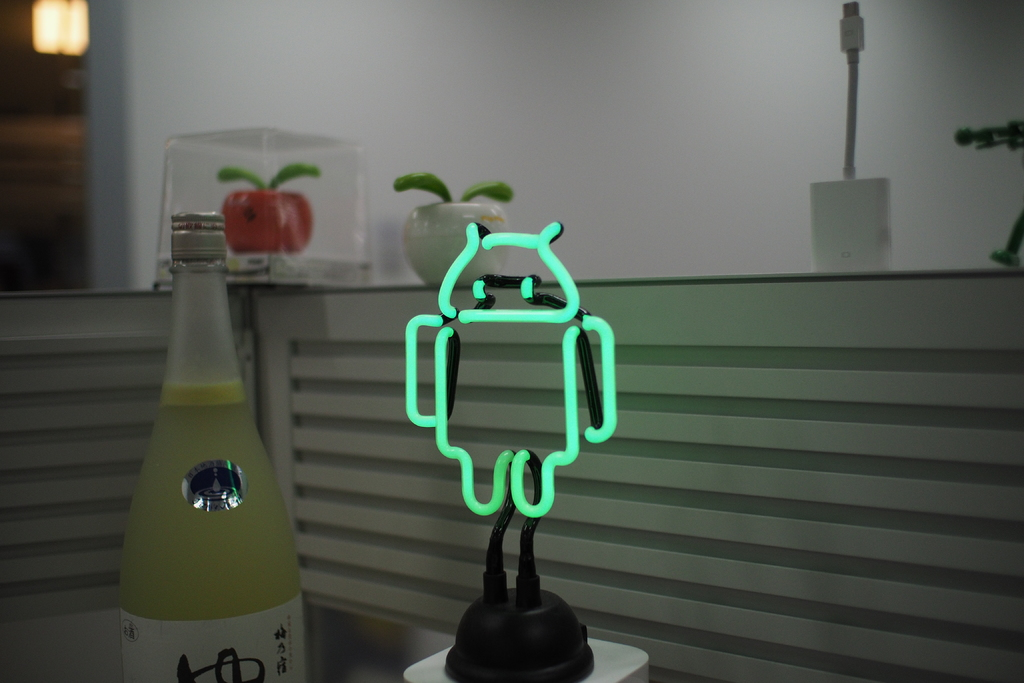Apple: (389, 172, 513, 287), (219, 160, 320, 251)
